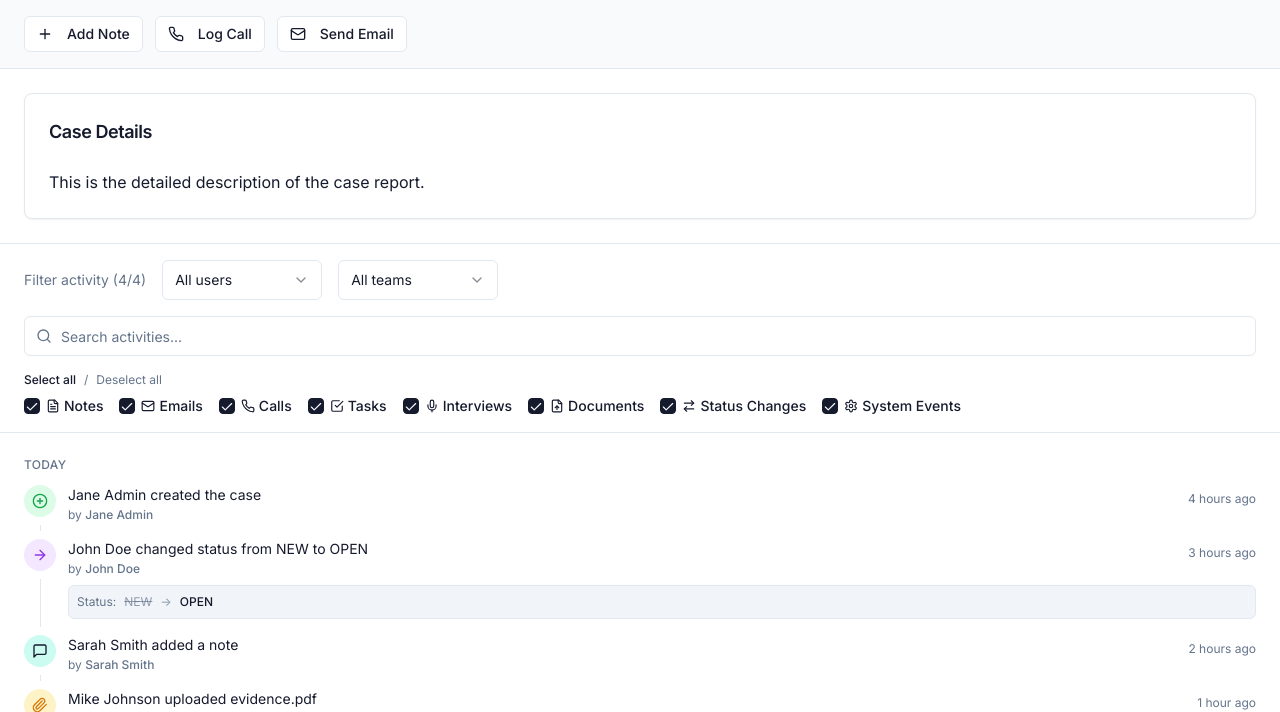
Test: CaseActivityTimeline › filters activities when checking Status Changes
This screenshot has width=1280, height=712.
Expected: the text "Jane Admin created the case" is shown, [68, 486, 261, 503]
# Deselect all, then select only status changes
Click the button "Deselect all" at {"x": 129, "y": 380}, box [96, 372, 162, 388]
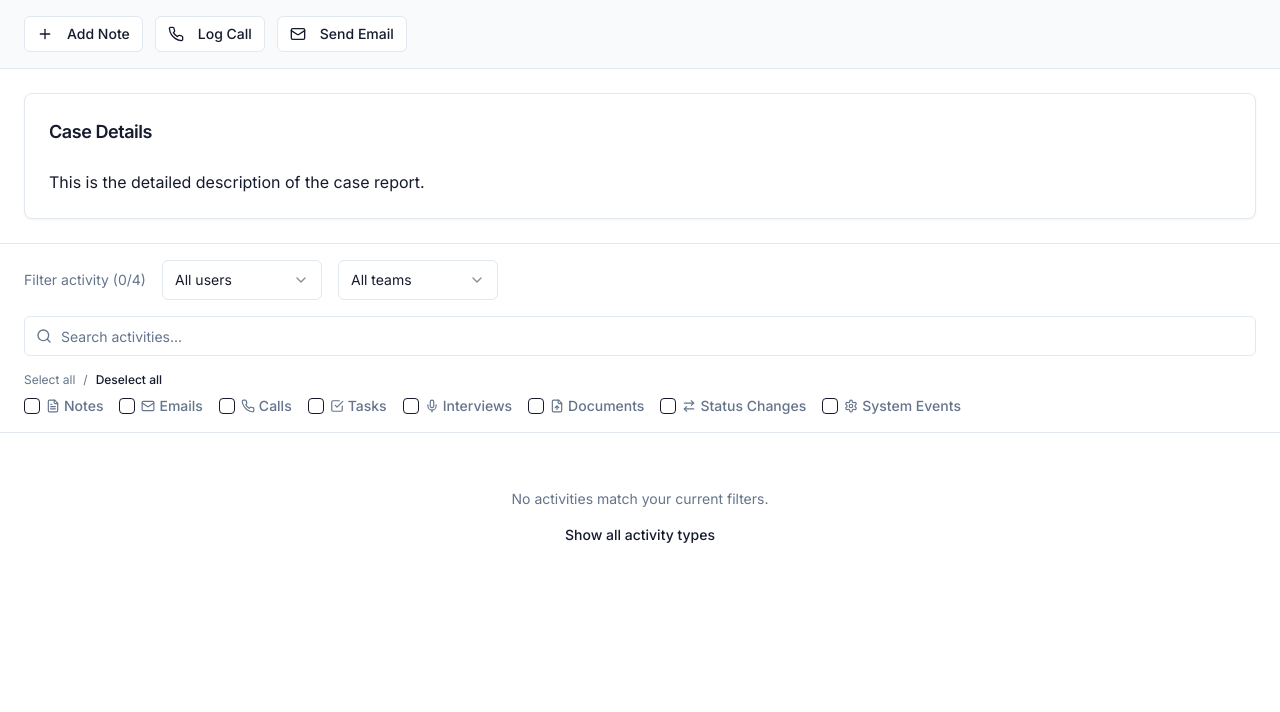
Click the checkbox named "status changes" next to "Status Changes" at {"x": 668, "y": 406}, box [660, 398, 676, 414]
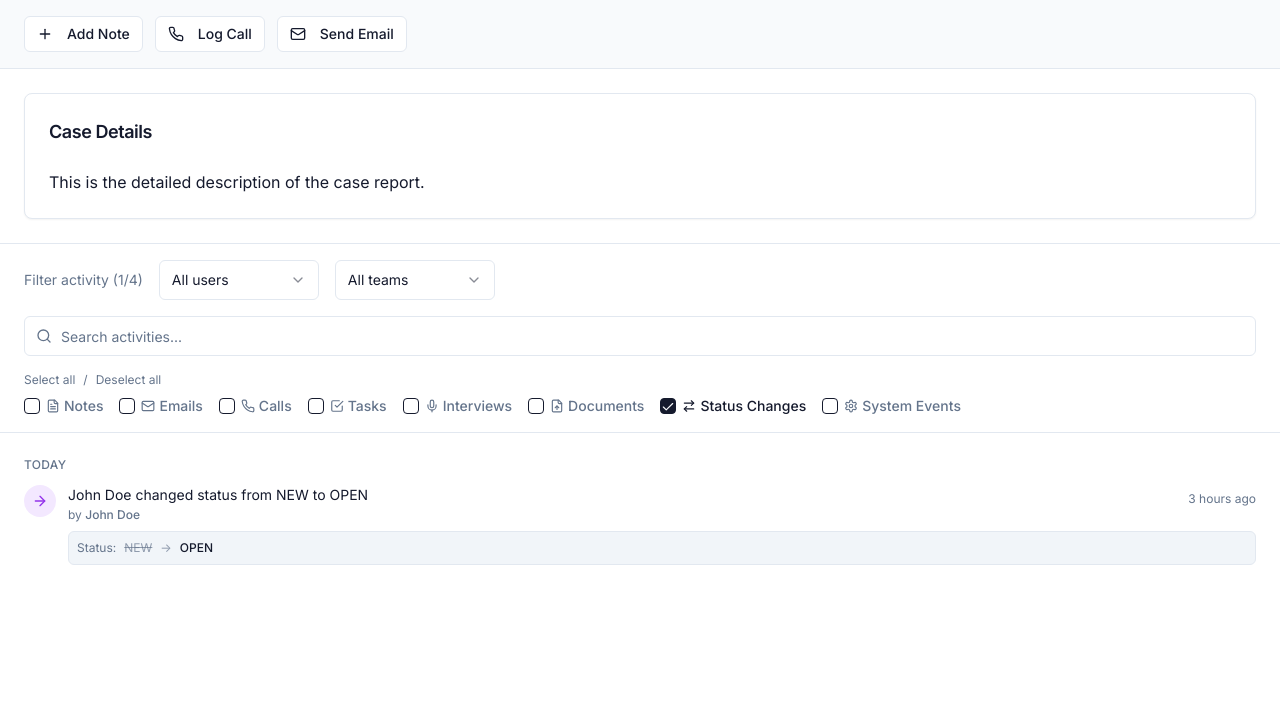
Expected: the text "John Doe changed status from NEW to OPEN" is shown, [68, 486, 368, 503]
